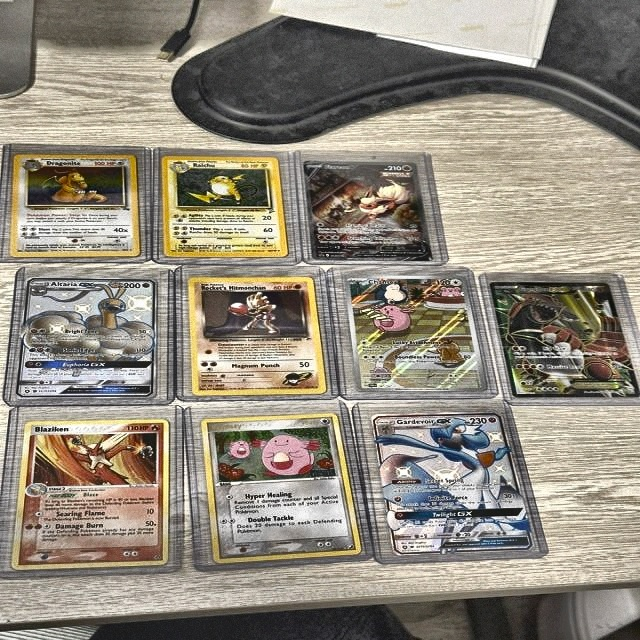card: (201, 412, 365, 566), (370, 410, 539, 558), (9, 418, 171, 570), (15, 276, 160, 400), (343, 276, 491, 393), (188, 276, 329, 398), (492, 282, 640, 398), (10, 155, 144, 258), (302, 160, 434, 262), (162, 155, 292, 258)
